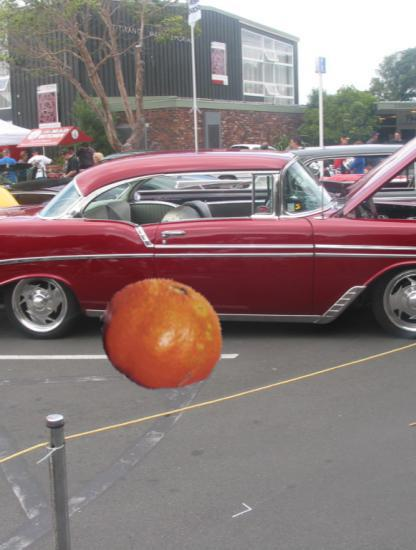Clementine: (96, 270, 226, 400)
